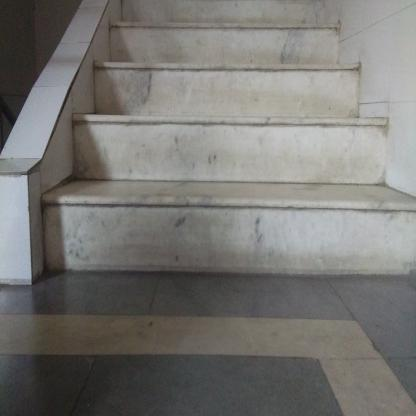stairs: (118, 33, 318, 287)
